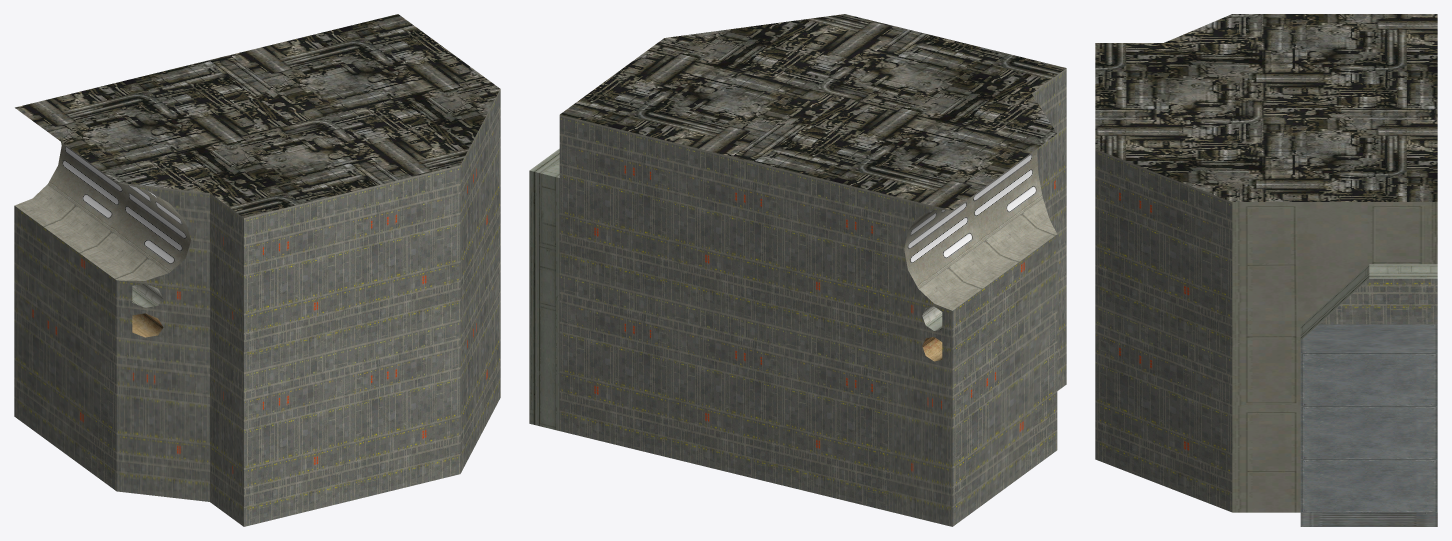
File: thm_tato_fallen_star_r7_fresher02_mesh_r7.fbx
3 views of the same model, side by side, from view 1: azimuth 30°, elevation 25°; view 2: azimuth 150°, elevation 25°; view 3: azimuth 270°, elevation 25° (orthographic). The views are drawn at different scales.
Visible parts, largest first — view 1: mesh_node; view 2: mesh_node; view 3: mesh_node.
Boxes of the visible parts, left/top/right/bottom form: mesh_node: left=14, top=14, right=500, bottom=526; mesh_node: left=529, top=14, right=1066, bottom=526; mesh_node: left=1095, top=14, right=1437, bottom=526.
Bounding box in the file's own units: 7 × 5 × 5.
